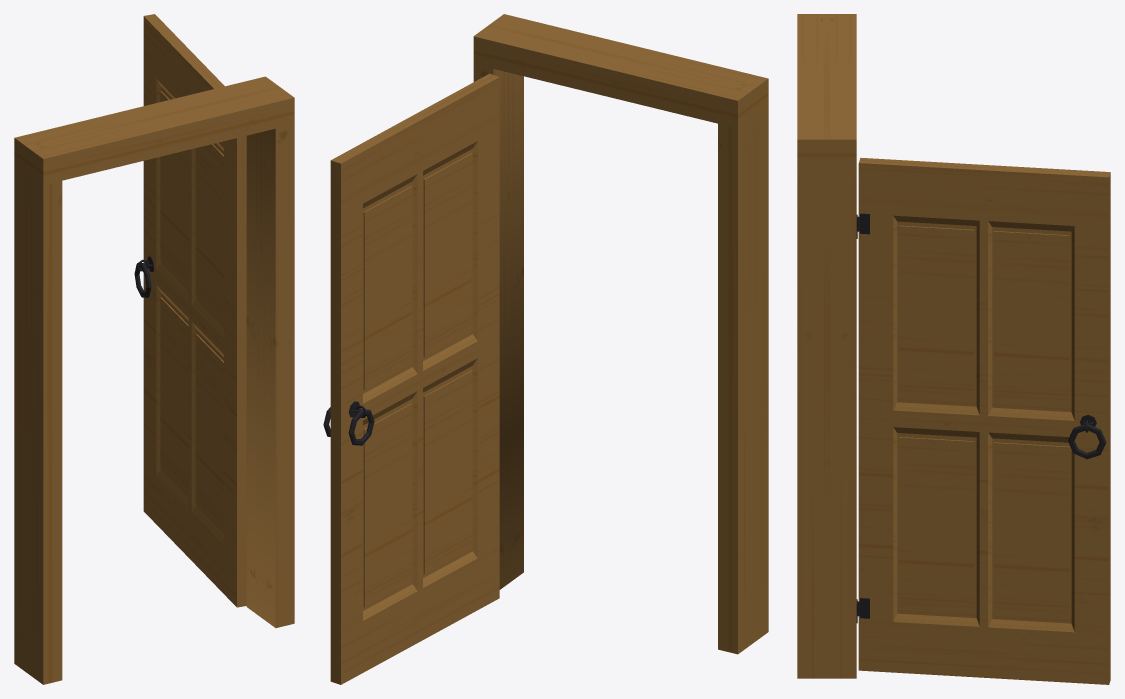
The model's file is Door_Open.fbx.
The picture shows the model from 3 angles, left to right: view 1: azimuth 30°, elevation 25°; view 2: azimuth 150°, elevation 25°; view 3: azimuth 270°, elevation 25°; orthographic projection. The views are drawn at different scales.
Parts seen in each view (by area): view 1: Cube.248; view 2: Cube.248; view 3: Cube.248.
Part boxes in pixels (x1=…): Cube.248: x1=14, y1=14, x2=294, y2=684; Cube.248: x1=323, y1=14, x2=768, y2=684; Cube.248: x1=797, y1=14, x2=1110, y2=684.
Bounding box in the file's own units: 109 × 200 × 105.
